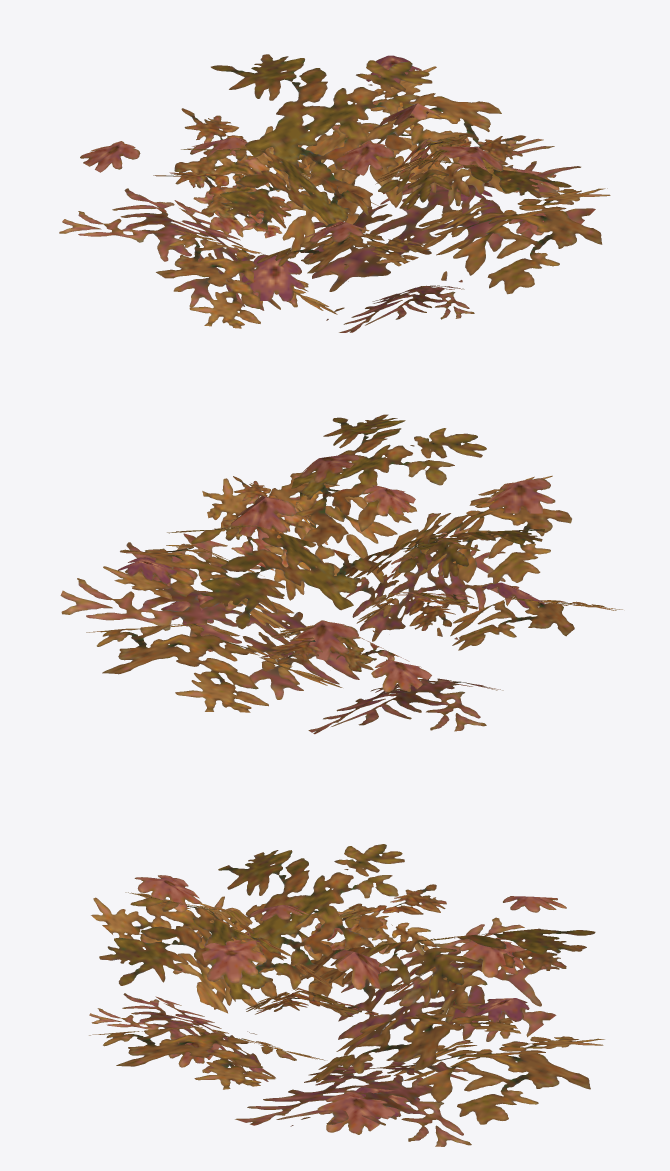
The picture shows the model from 3 angles, top to bottom: view 1: azimuth 30°, elevation 25°; view 2: azimuth 150°, elevation 25°; view 3: azimuth 270°, elevation 25°; orthographic projection. The views are drawn at different scales.
Parts seen in each view (by area): view 1: 4007_1; view 2: 4007_1; view 3: 4007_1.
Part boxes in pixels (<box>): 4007_1: <box>59,54,610,332</box>; 4007_1: <box>60,414,622,734</box>; 4007_1: <box>89,844,604,1146</box>.
Bounding box in the file's own units: 204 × 71.2 × 191.
